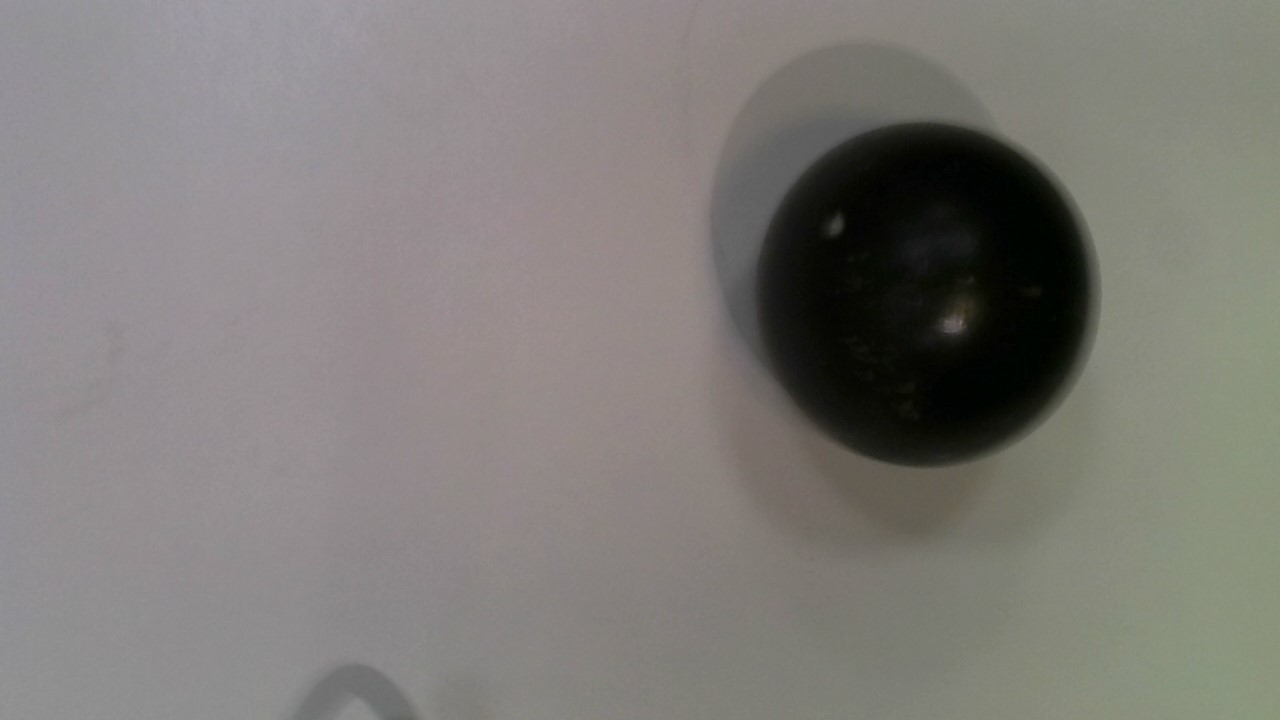black_ball: (745, 134, 1104, 471)
